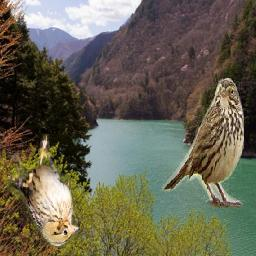Sparrow: (162, 78, 244, 208), (8, 135, 80, 248)
